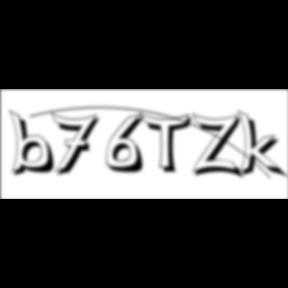6: (106, 112, 150, 176)
7: (50, 111, 106, 179)
T: (140, 112, 198, 176)
Z: (192, 112, 248, 181)
b: (8, 109, 62, 179)
k: (238, 108, 288, 181)
